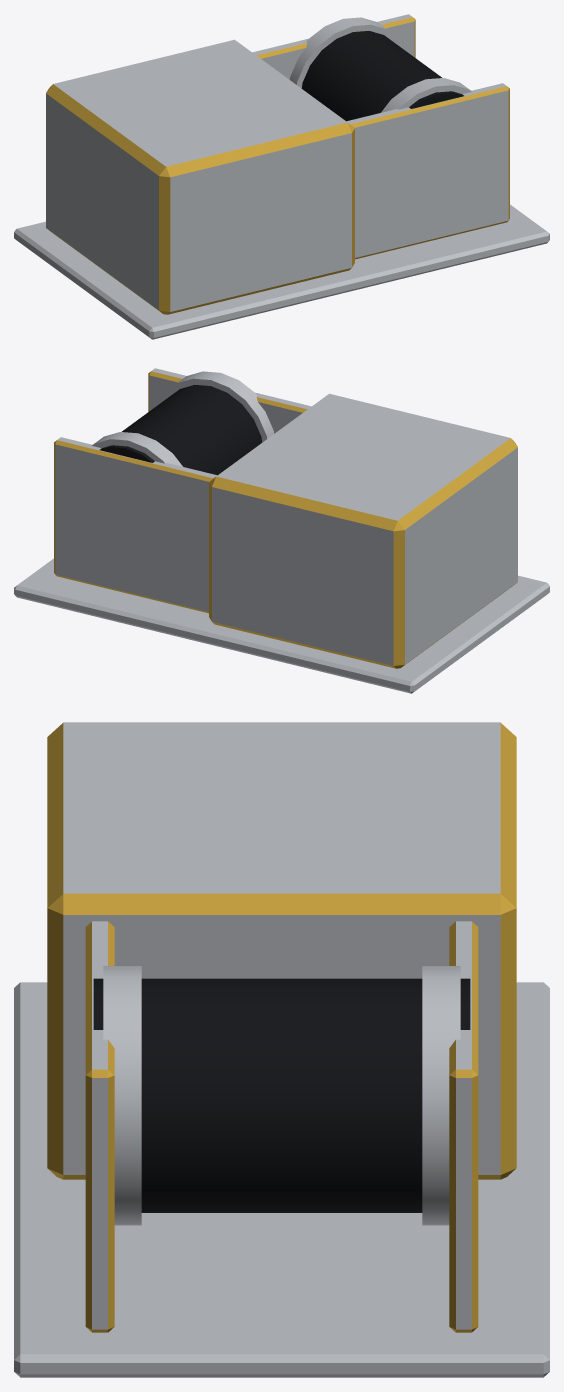
The model's file is inst_crater.glb.
3 views of the same model, one above another, from view 1: azimuth 30°, elevation 25°; view 2: azimuth 150°, elevation 25°; view 3: azimuth 270°, elevation 25° (orthographic). The views are drawn at different scales.
Visible parts, largest first — view 1: cosmic_ray_telescope; view 2: cosmic_ray_telescope; view 3: cosmic_ray_telescope.
Boxes of the visible parts, left/top/right/bottom form: cosmic_ray_telescope: left=14, top=14, right=549, bottom=339; cosmic_ray_telescope: left=14, top=368, right=549, bottom=693; cosmic_ray_telescope: left=14, top=722, right=549, bottom=1377.
Size of the model in its own units: 0.28 by 0.109 by 0.168.
